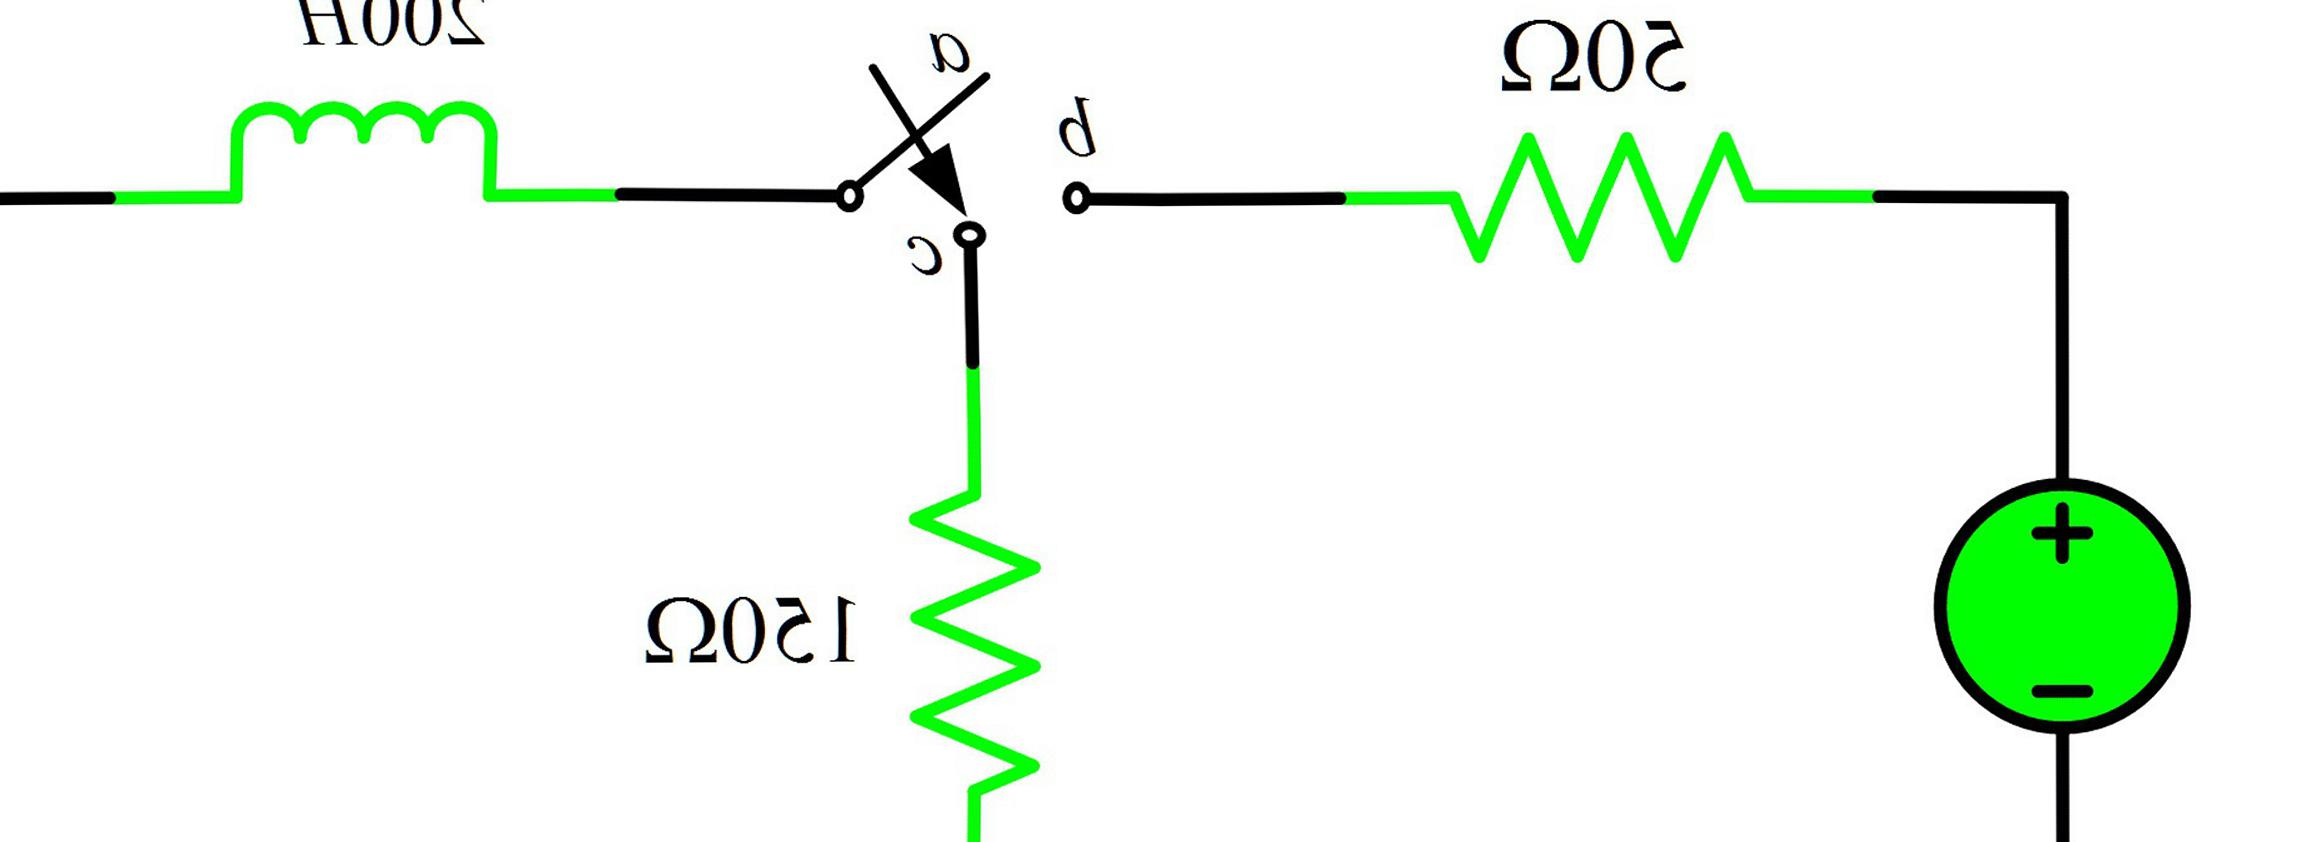Battery: (1875, 437, 2226, 761)
